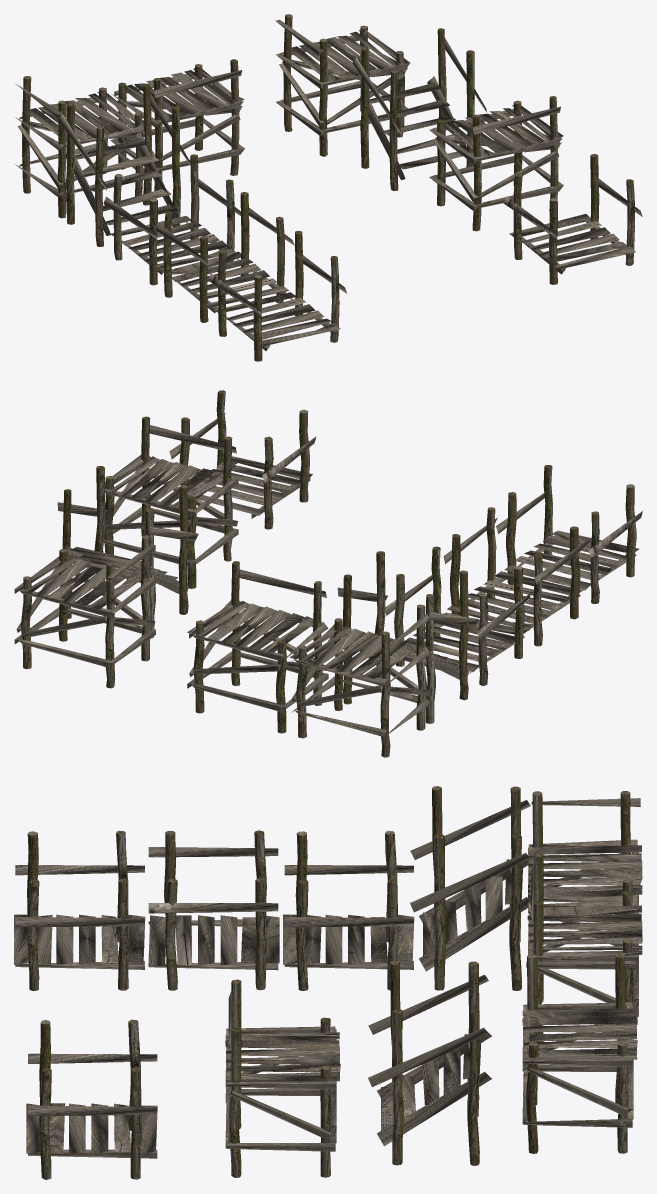
The model's file is cove-walkway.lod0.glb.
3 renders of one model, top to bottom at view 1: azimuth 30°, elevation 25°; view 2: azimuth 150°, elevation 25°; view 3: azimuth 270°, elevation 25°, orthographic. The views are drawn at different scales.
Visible parts, largest first — view 1: Cube.397_Material.002_0, Cylinder.266_Material.006_0; view 2: Cube.397_Material.002_0, Cylinder.266_Material.006_0; view 3: Cube.397_Material.002_0, Cylinder.266_Material.006_0.
Boxes of the visible parts, x1=… form: Cube.397_Material.002_0: x1=15, y1=19, x2=642, y2=350; Cylinder.266_Material.006_0: x1=22, y1=14, x2=634, y2=361; Cube.397_Material.002_0: x1=14, y1=413, x2=642, y2=736; Cylinder.266_Material.006_0: x1=21, y1=390, x2=636, y2=757; Cube.397_Material.002_0: x1=14, y1=798, x2=642, y2=1158; Cylinder.266_Material.006_0: x1=27, y1=786, x2=634, y2=1179.
Size of the model in its own units: 8.72 by 2.51 by 9.4.
Materials: 2 (2 with a texture image).
